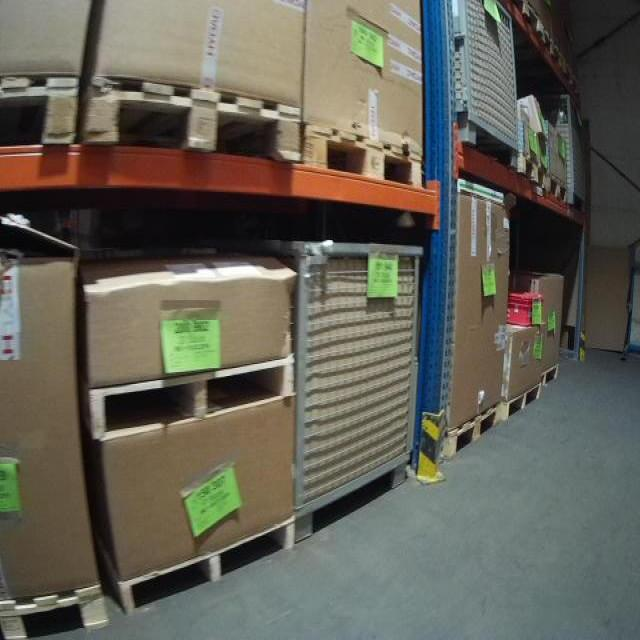pallet: (80, 74, 304, 170), (105, 511, 295, 616), (86, 351, 298, 444), (300, 115, 424, 188), (0, 571, 113, 638), (0, 72, 84, 153), (444, 397, 505, 466), (502, 372, 542, 416), (515, 147, 548, 195), (511, 1, 546, 45), (539, 357, 564, 389), (550, 172, 572, 205)
small_load_carrier: (506, 286, 547, 325)
stillage: (293, 235, 423, 542), (450, 0, 523, 154), (553, 94, 584, 197)
